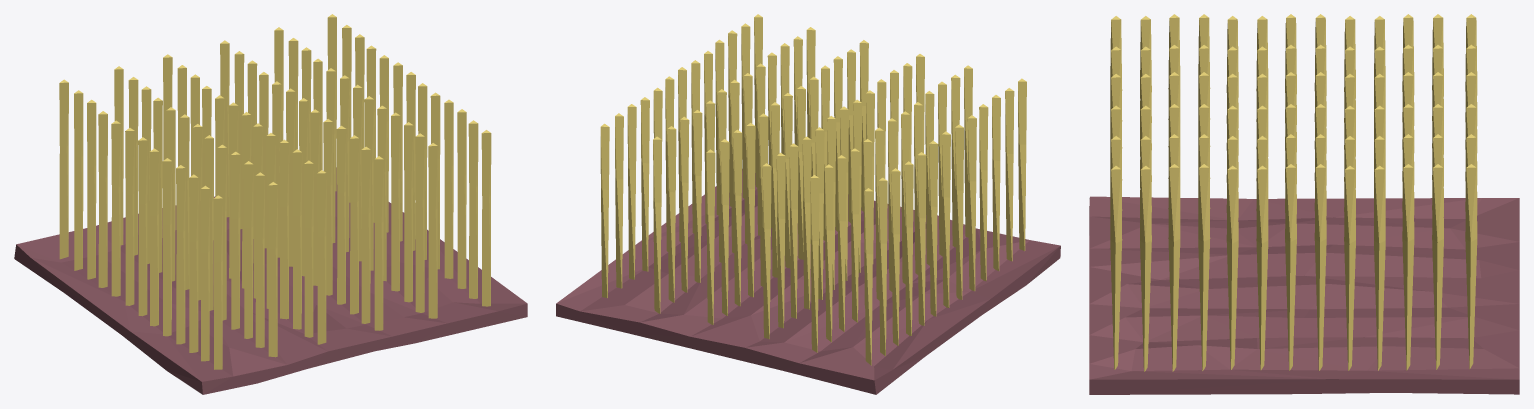
File: Farm_Wheat_Tile (4).fbx
The picture shows the model from 3 angles, left to right: view 1: azimuth 30°, elevation 25°; view 2: azimuth 150°, elevation 25°; view 3: azimuth 270°, elevation 25°; orthographic projection. The views are drawn at different scales.
Parts seen in each view (by area): view 1: Plane, Icosphere.074, Icosphere.075, Icosphere.002, Icosphere.053, Icosphere.004, Icosphere.003, Icosphere.012, Icosphere.005, Icosphere.050, Icosphere.027, Icosphere.052 (+67 smaller); view 2: Plane, Icosphere.013, Icosphere.011, Icosphere.012, Icosphere.038, Icosphere.040, Icosphere.062, Icosphere.014, Icosphere.041, Icosphere.010, Icosphere.037, Icosphere.015 (+67 smaller); view 3: Plane, Icosphere.074, Icosphere.073, Icosphere.076, Icosphere.072, Icosphere.067, Icosphere.075, Icosphere.066, Icosphere.069, Icosphere.065, Icosphere.071, Icosphere.077 (+67 smaller).
Part boxes in pixels (x1,y1,x2,y2): Plane: [14, 167, 527, 394]; Icosphere.074: [457, 109, 466, 288]; Icosphere.075: [444, 99, 453, 278]; Icosphere.002: [176, 165, 185, 344]; Icosphere.053: [415, 133, 424, 312]; Icosphere.004: [138, 137, 147, 316]; Icosphere.003: [189, 174, 198, 352]; Icosphere.012: [59, 79, 68, 259]; Icosphere.005: [125, 128, 134, 305]; Icosphere.050: [361, 146, 370, 323]; Icosphere.027: [304, 160, 313, 337]; Icosphere.052: [428, 143, 437, 318]; Plane: [556, 169, 1060, 394]; Icosphere.013: [810, 175, 819, 352]; Icosphere.011: [891, 168, 900, 345]; Icosphere.012: [864, 188, 873, 365]; Icosphere.038: [762, 163, 771, 339]; Icosphere.040: [733, 129, 742, 306]; Icosphere.062: [667, 126, 676, 302]; Icosphere.014: [837, 155, 846, 331]; Icosphere.041: [720, 139, 729, 315]; Icosphere.010: [878, 177, 887, 356]; Icosphere.037: [789, 143, 798, 318]; Icosphere.015: [824, 164, 833, 342]; Plane: [1089, 196, 1519, 394]; Icosphere.074: [1168, 164, 1180, 371]; Icosphere.073: [1285, 164, 1296, 370]; Icosphere.076: [1140, 166, 1151, 371]; Icosphere.072: [1314, 164, 1326, 370]; Icosphere.067: [1432, 164, 1443, 369]; Icosphere.075: [1198, 164, 1210, 370]; Icosphere.066: [1402, 164, 1414, 370]; Icosphere.069: [1344, 166, 1355, 370]; Icosphere.065: [1465, 164, 1477, 369]; Icosphere.071: [1256, 165, 1268, 370]; Icosphere.077: [1110, 166, 1122, 369].
Bounding box in the file's own units: 2000 × 1098 × 2000.
